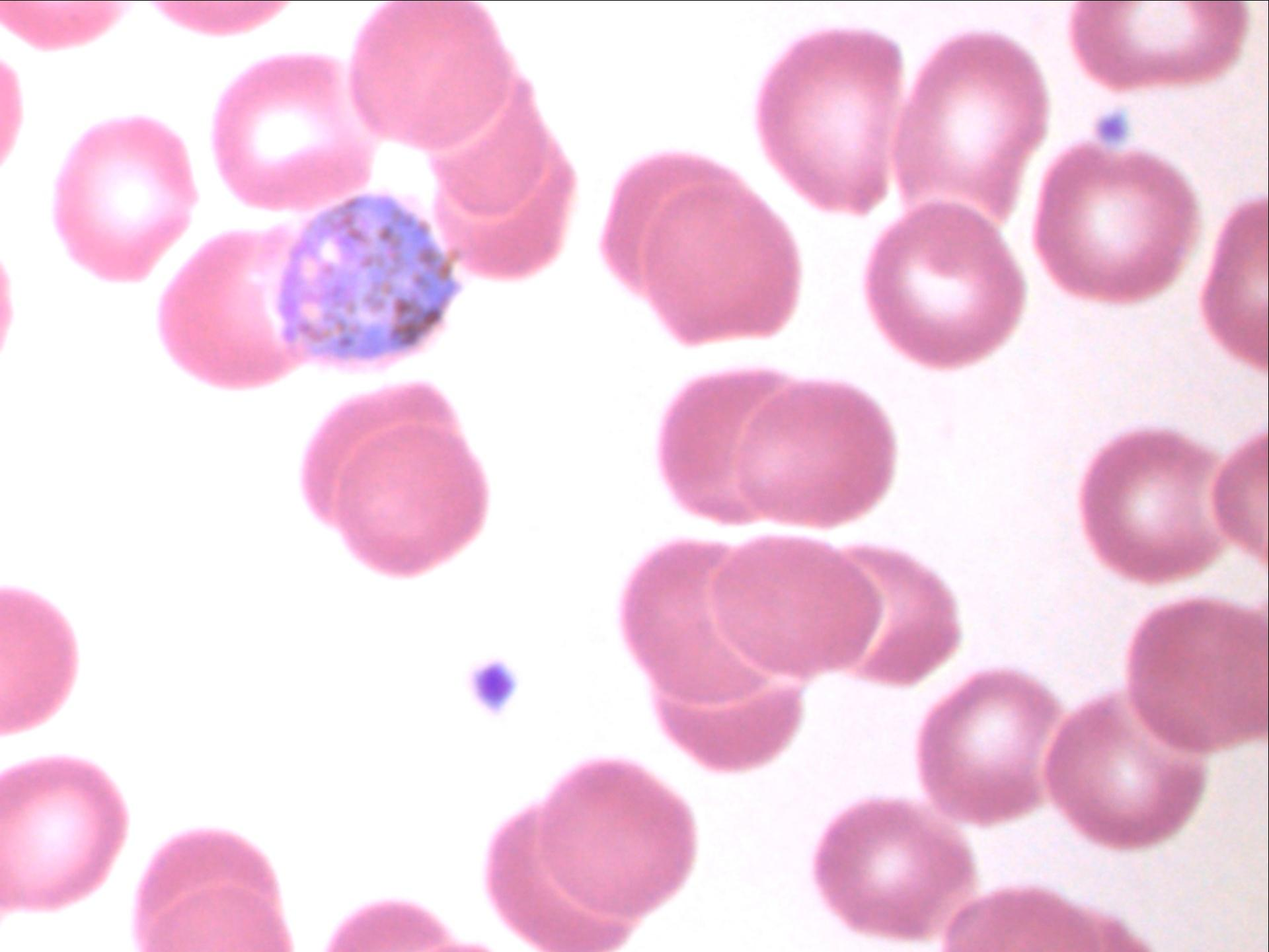Infected: (271, 192, 464, 372)
Uninfected: (892, 35, 1048, 220), (757, 29, 905, 214), (866, 202, 1026, 367), (627, 540, 783, 708), (529, 763, 689, 925), (1032, 145, 1194, 305), (724, 378, 892, 525), (709, 536, 879, 681), (335, 421, 491, 579), (1080, 434, 1241, 586), (214, 55, 369, 212), (643, 188, 795, 345), (353, 3, 510, 151), (52, 117, 195, 278), (1048, 700, 1200, 847), (159, 231, 296, 391), (919, 672, 1060, 825), (816, 799, 967, 939), (658, 367, 792, 522), (1130, 600, 1262, 752), (441, 141, 572, 279), (488, 810, 601, 945), (845, 552, 956, 684), (301, 396, 383, 527)
